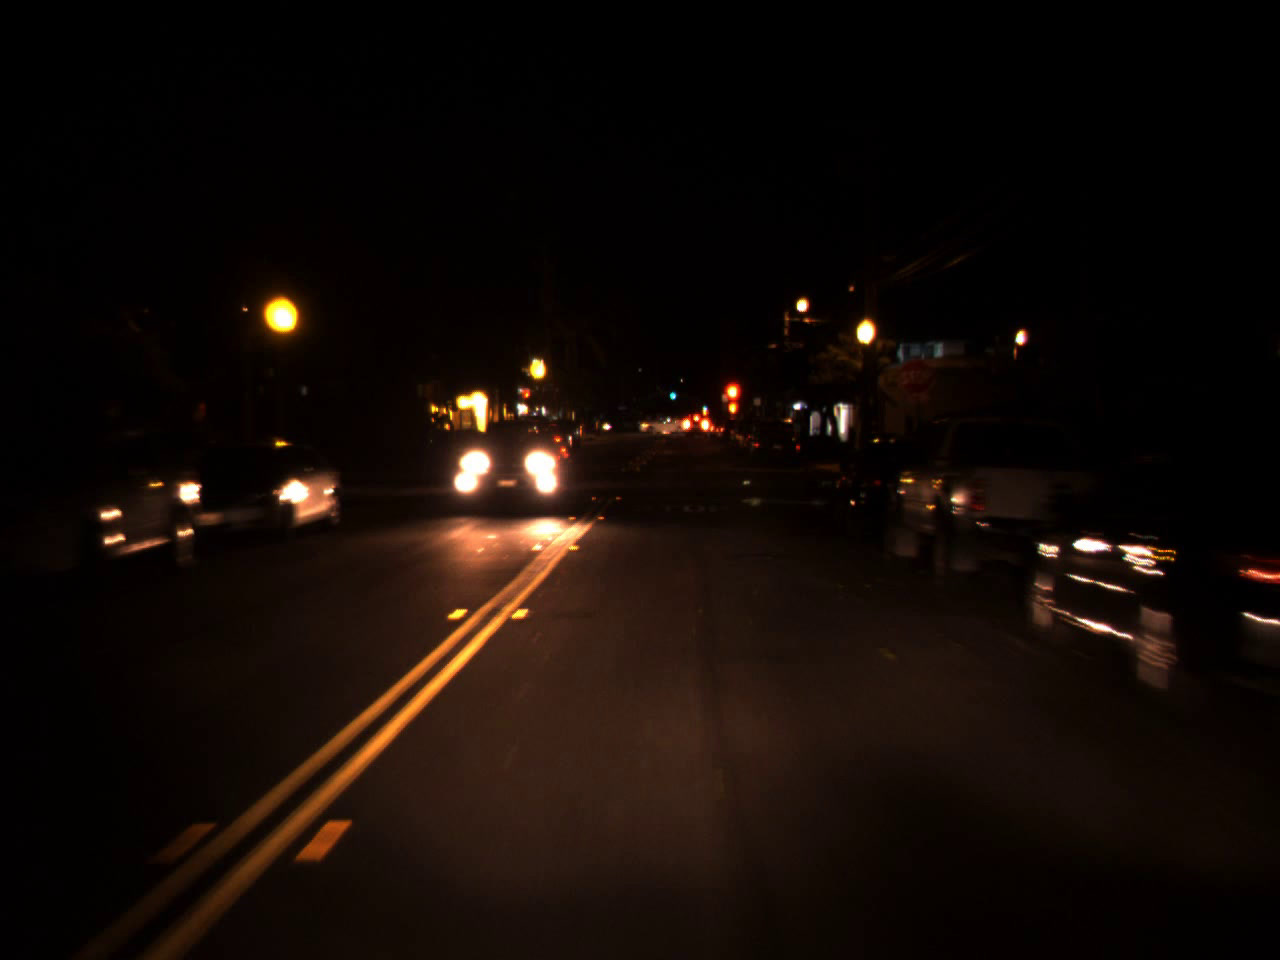go: (667, 385, 676, 400)
stop: (725, 384, 740, 411), (520, 386, 532, 407)
